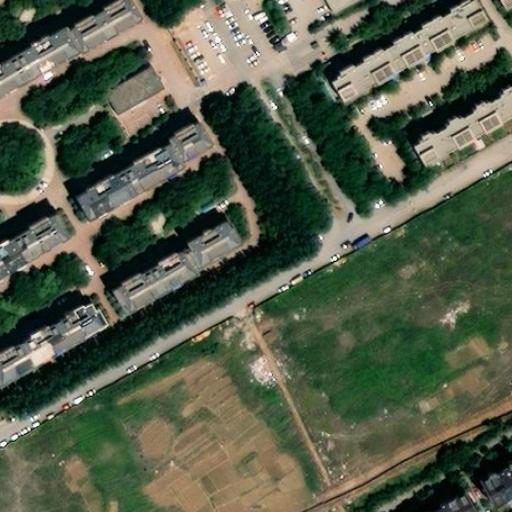building: (327, 4, 489, 113), (0, 4, 144, 111), (70, 127, 209, 228), (108, 226, 233, 320), (0, 311, 100, 395), (415, 94, 512, 175), (108, 81, 167, 130), (317, 0, 370, 34), (475, 468, 512, 512)
